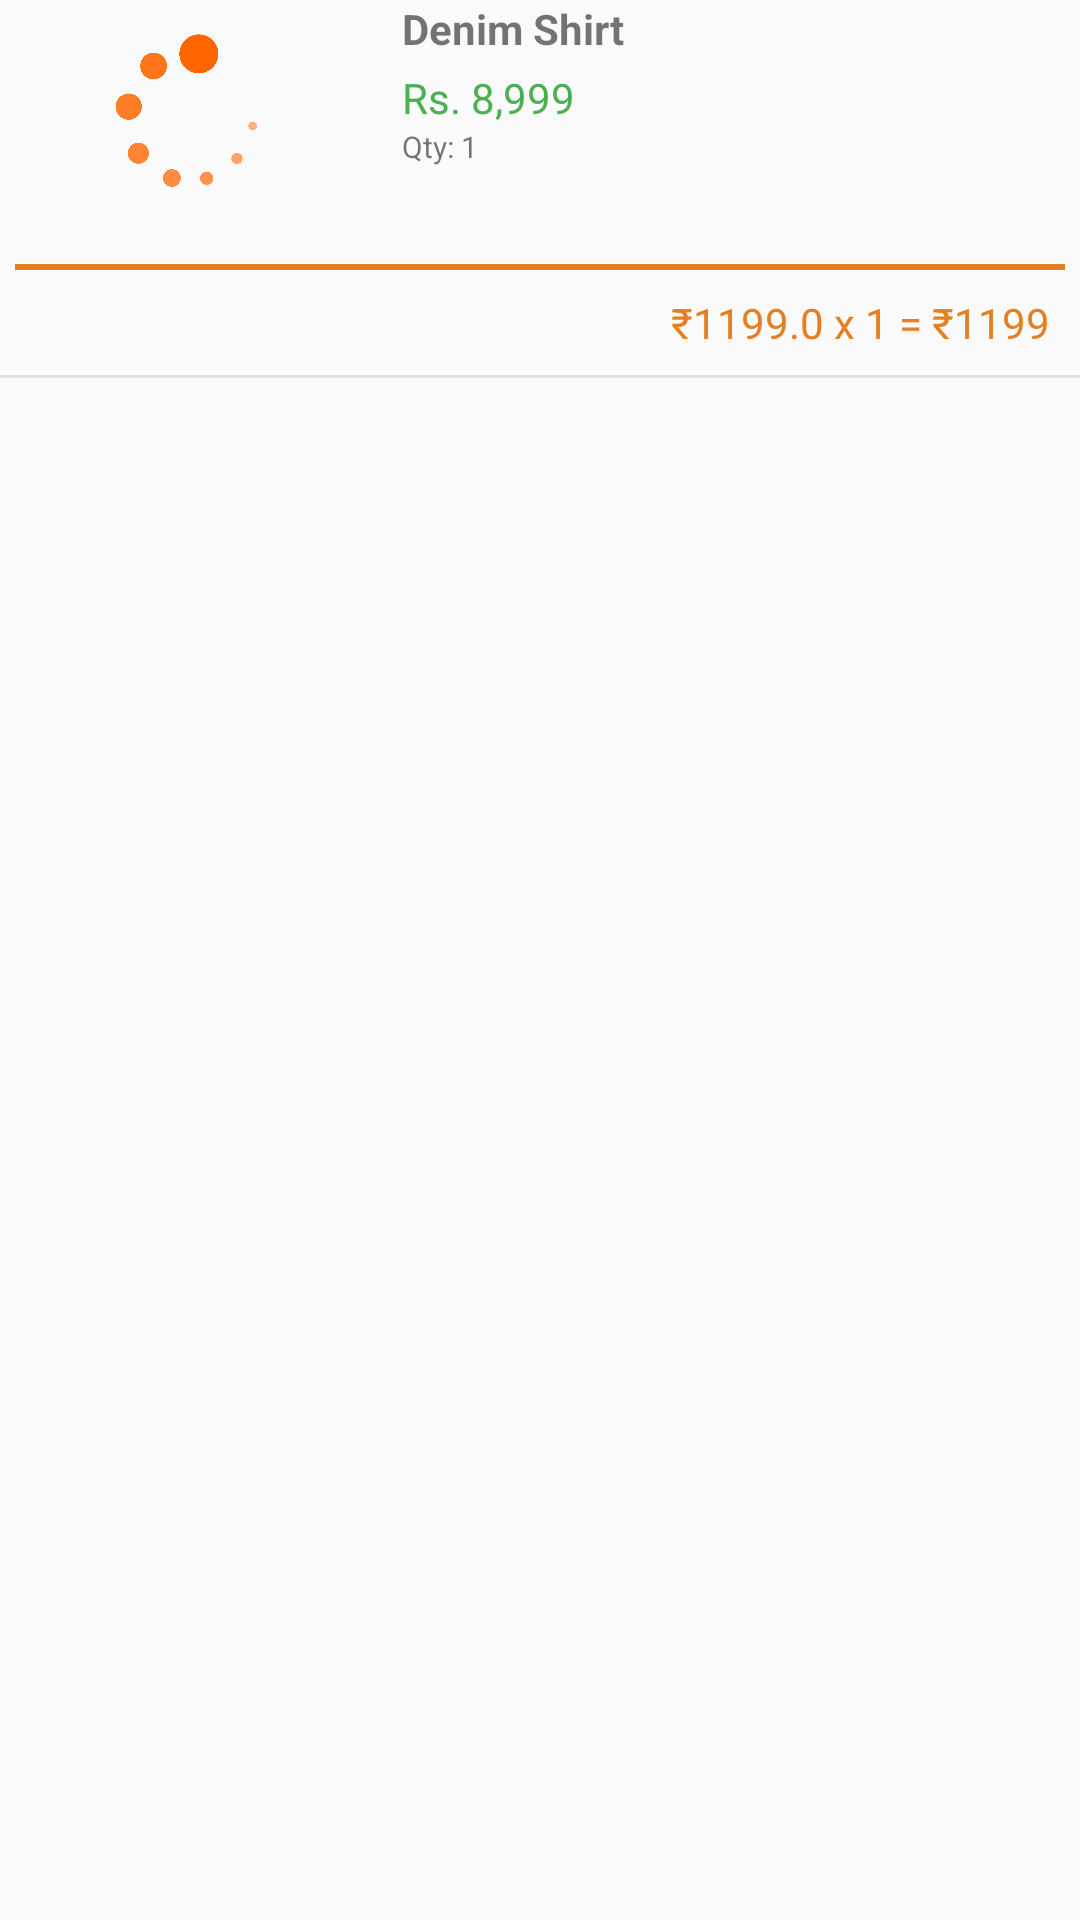

Point at icon controls on the screen. Image size 1080px x 1920px, points as [x,y].
loading: [186,110]
